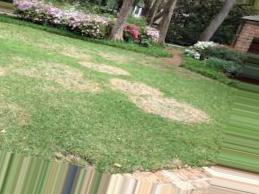patch: (122, 81, 177, 123), (29, 64, 65, 86), (85, 60, 122, 78), (59, 49, 87, 61)
